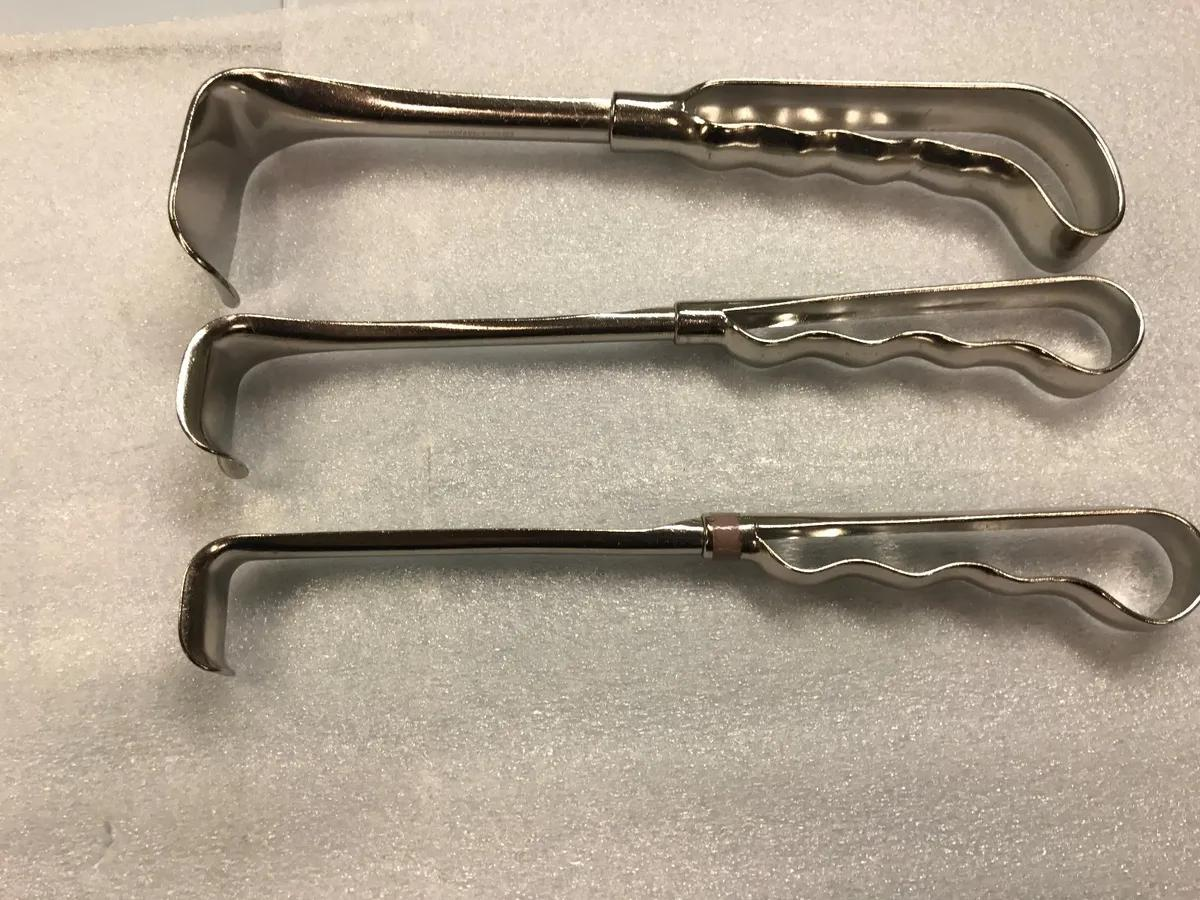Kelly Retractor: (163, 54, 1139, 269), (159, 279, 1150, 477), (157, 501, 1200, 680)
